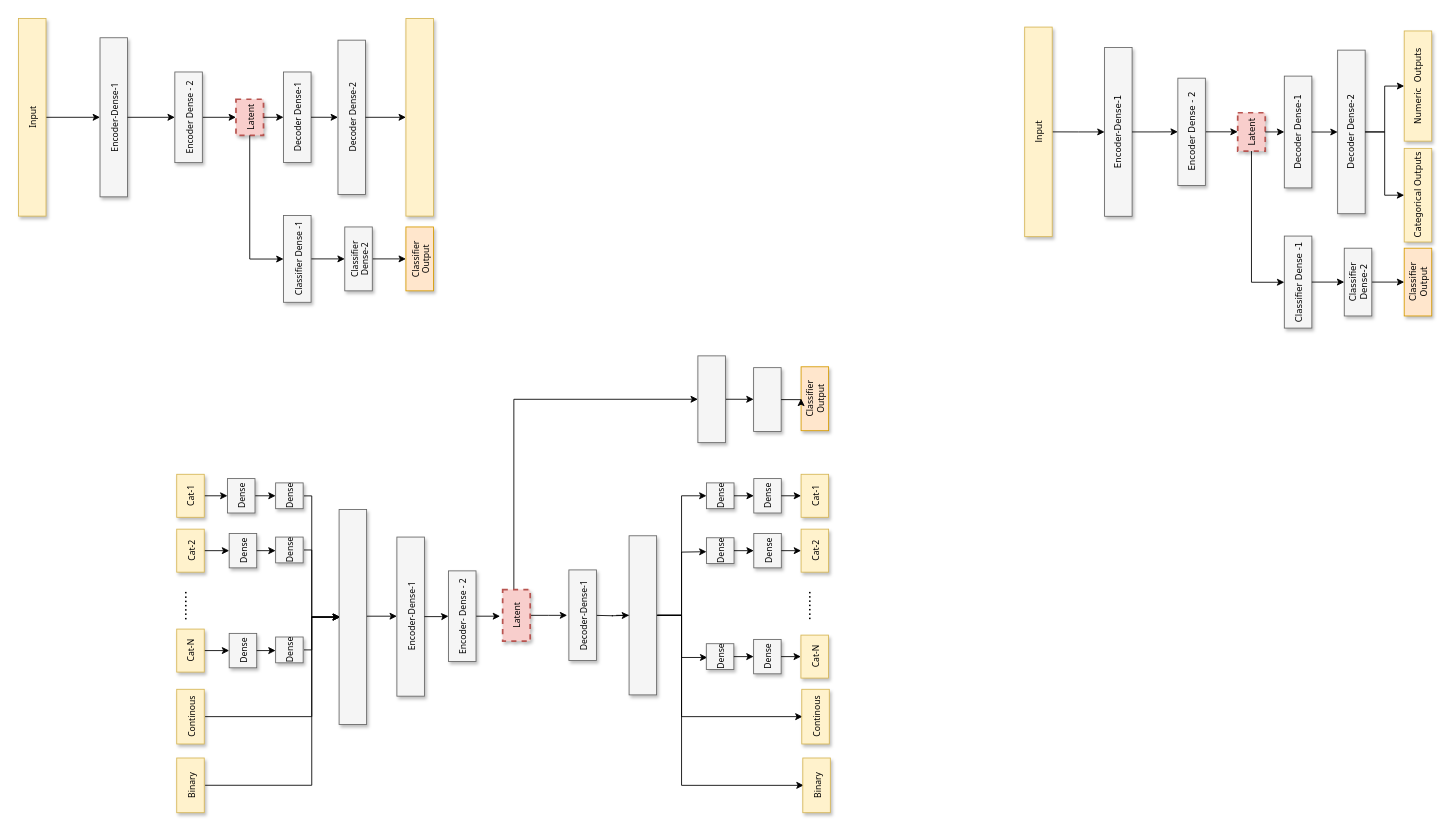
Image size: 1453x834. Some labels were removed from this diagram. Here are the shapes that lost their labels. From the top down, the centre of each, then its label:
pixel 420 118: Output
pixel 712 400: Classifier- Dense -1
pixel 767 400: Classifier- Dense-2
pixel 353 618: Concatatanetion
pixel 643 616: Decoder-Dense-2
